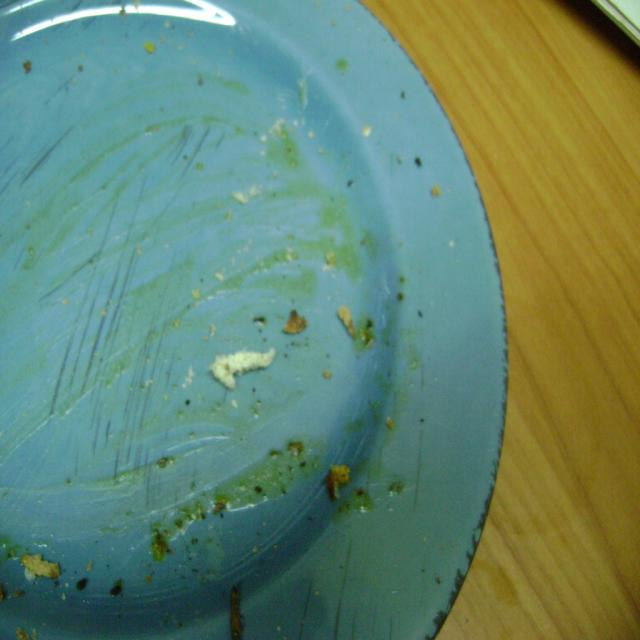non-organic waste: (0, 28, 512, 640)
